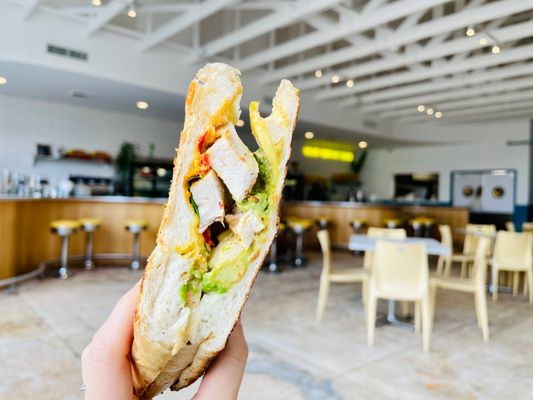pasta: (430, 227, 494, 346), (364, 238, 430, 352), (314, 228, 368, 323), (490, 230, 533, 304)
